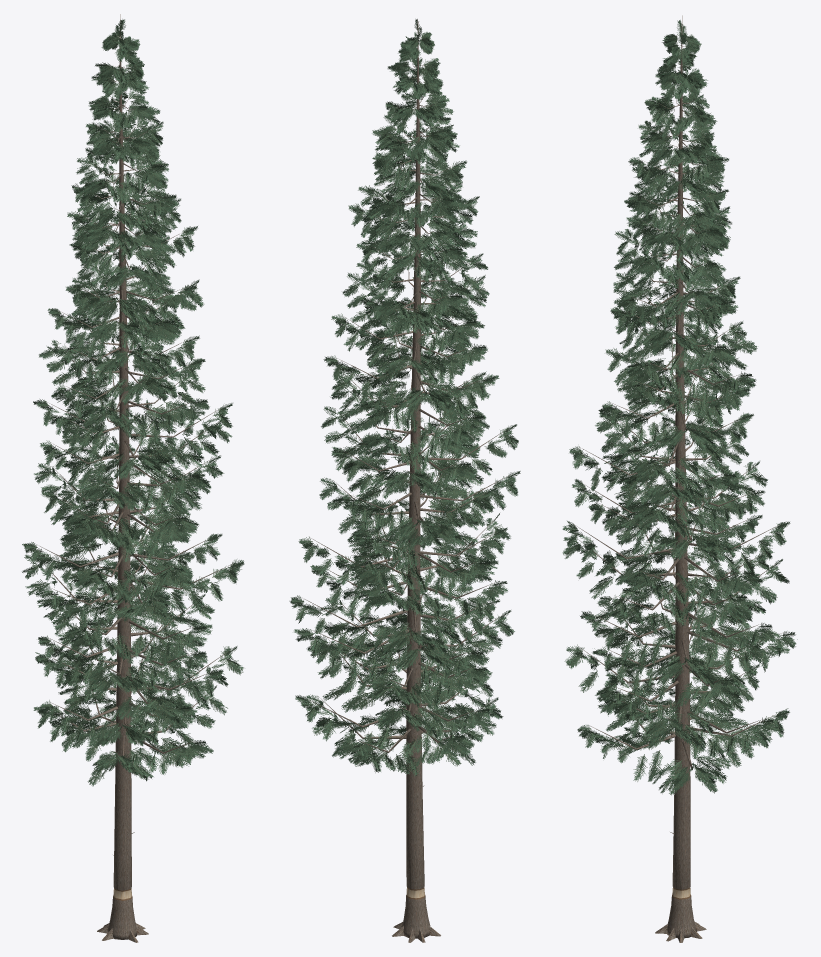
File: Sitka_RingBarked_01_Fresh_LOD1.fbx
3 views of the same model, side by side, from view 1: azimuth 30°, elevation 25°; view 2: azimuth 150°, elevation 25°; view 3: azimuth 270°, elevation 25° (orthographic).
Parts seen in each view (by area): view 1: Sitka_RingBarked_01_Fresh_LOD1_Foliage, Sitka_RingBarked_01_Fresh_LOD1_Trunk, Sitka_RingBarked_01_Fresh_LOD1_Branches; view 2: Sitka_RingBarked_01_Fresh_LOD1_Foliage, Sitka_RingBarked_01_Fresh_LOD1_Trunk, Sitka_RingBarked_01_Fresh_LOD1_Branches; view 3: Sitka_RingBarked_01_Fresh_LOD1_Foliage, Sitka_RingBarked_01_Fresh_LOD1_Trunk, Sitka_RingBarked_01_Fresh_LOD1_Branches.
Boxes of the visible parts, bbox=[...] form: Sitka_RingBarked_01_Fresh_LOD1_Foliage: bbox=[22, 19, 244, 786]; Sitka_RingBarked_01_Fresh_LOD1_Trunk: bbox=[97, 14, 148, 942]; Sitka_RingBarked_01_Fresh_LOD1_Branches: bbox=[40, 36, 231, 855]; Sitka_RingBarked_01_Fresh_LOD1_Foliage: bbox=[289, 19, 520, 776]; Sitka_RingBarked_01_Fresh_LOD1_Trunk: bbox=[392, 19, 440, 942]; Sitka_RingBarked_01_Fresh_LOD1_Branches: bbox=[304, 38, 508, 857]; Sitka_RingBarked_01_Fresh_LOD1_Foliage: bbox=[562, 20, 797, 795]; Sitka_RingBarked_01_Fresh_LOD1_Trunk: bbox=[655, 15, 706, 942]; Sitka_RingBarked_01_Fresh_LOD1_Branches: bbox=[575, 45, 783, 834].
Size of the model in its own units: 620 by 2600 by 644.
Materials: 4 (3 with a texture image).
